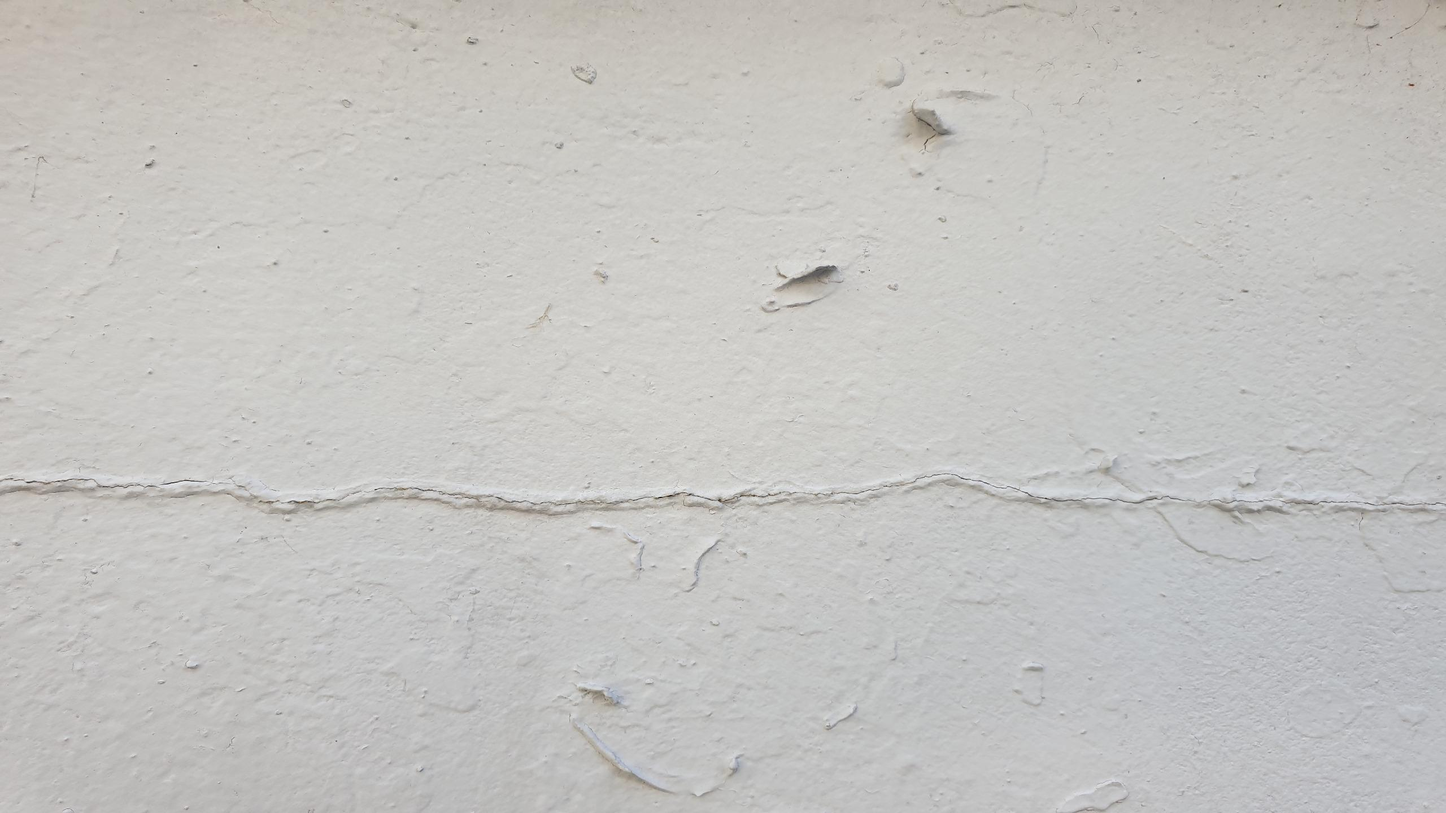crack: (6, 469, 1424, 513)
